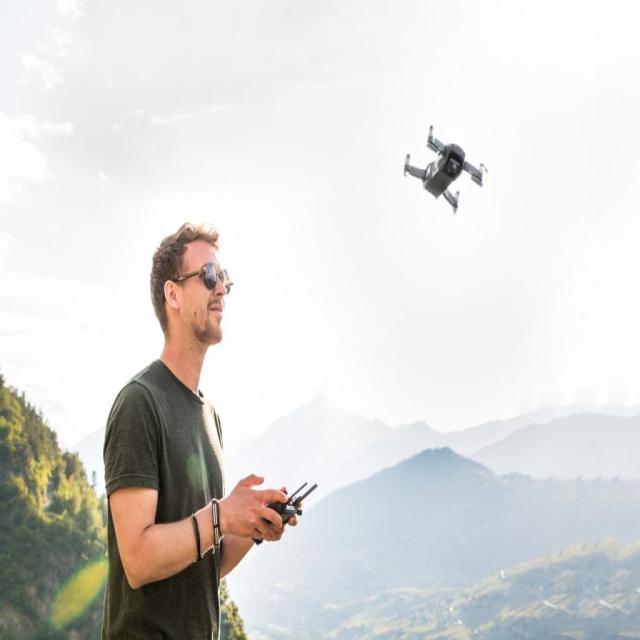drones: (398, 118, 495, 225)
